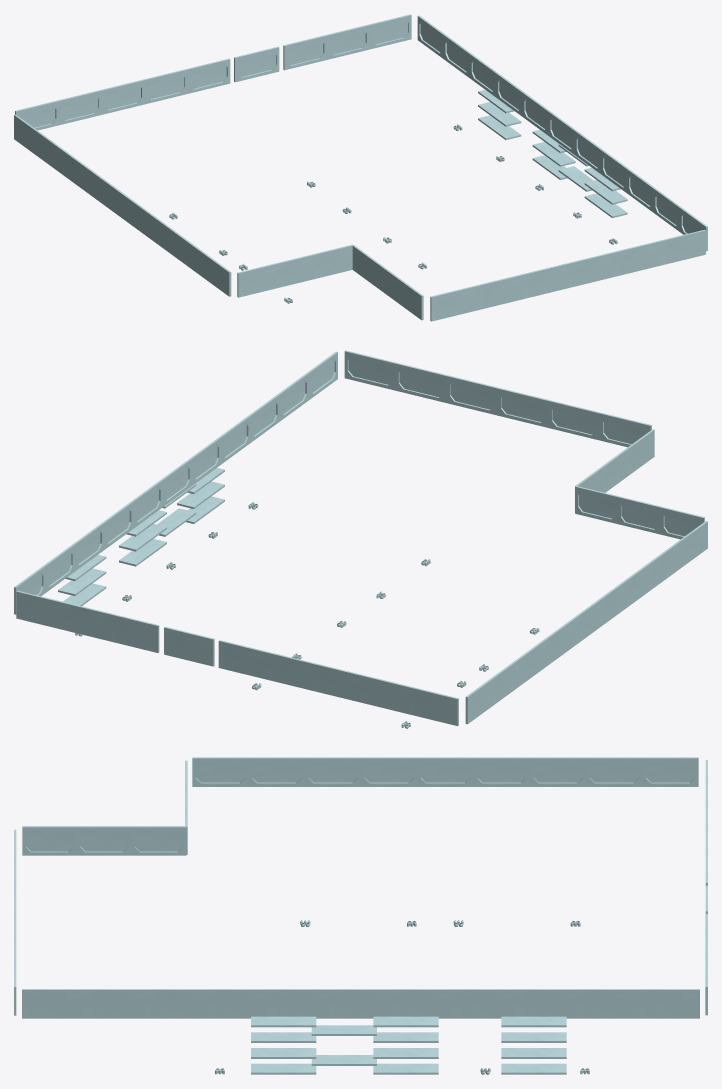
The model's file is resto_ni_teo_18.obj.
3 views of the same model, one above another, from view 1: azimuth 30°, elevation 25°; view 2: azimuth 150°, elevation 25°; view 3: azimuth 270°, elevation 25° (orthographic). The views are drawn at different scales.
Size of the model in its own units: 13.92 by 2.85 by 16.81.
